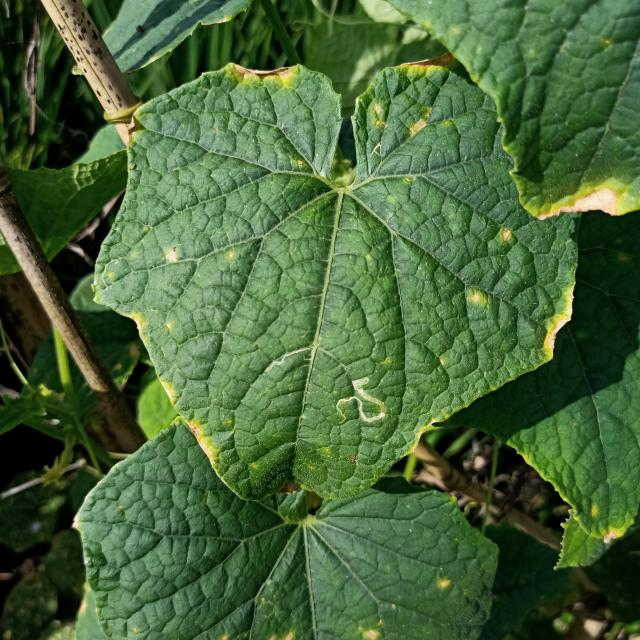disease_cucumber: (370, 49, 452, 136), (129, 307, 177, 338), (469, 291, 486, 308), (164, 246, 180, 264), (500, 226, 512, 243)
